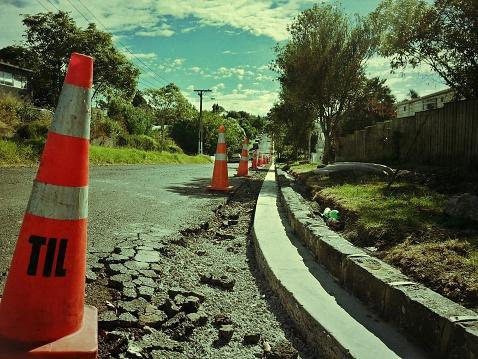Cone: (10, 51, 97, 354), (211, 123, 235, 193), (239, 137, 252, 179), (252, 148, 257, 170), (258, 150, 263, 167)
